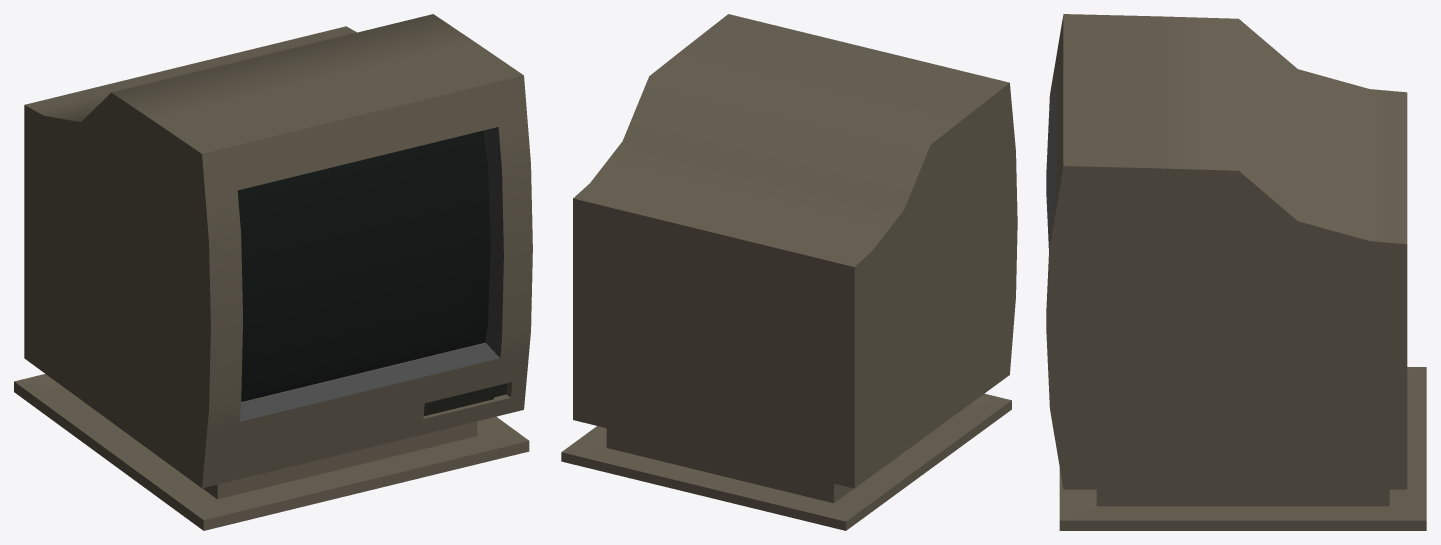
Rendered from monitorcrt 1.obj.
3 views of the same model, side by side, from view 1: azimuth 30°, elevation 25°; view 2: azimuth 150°, elevation 25°; view 3: azimuth 270°, elevation 25° (orthographic). The views are drawn at different scales.
Visible parts, largest first — view 1: pCube1; view 2: pCube1; view 3: pCube1.
Boxes of the visible parts, box(x1,y1,x2,y2) form: pCube1: box(14, 14, 532, 530); pCube1: box(561, 14, 1017, 530); pCube1: box(1046, 14, 1426, 530).
Size of the model in its own units: 38.38 by 42.28 by 40.13.
